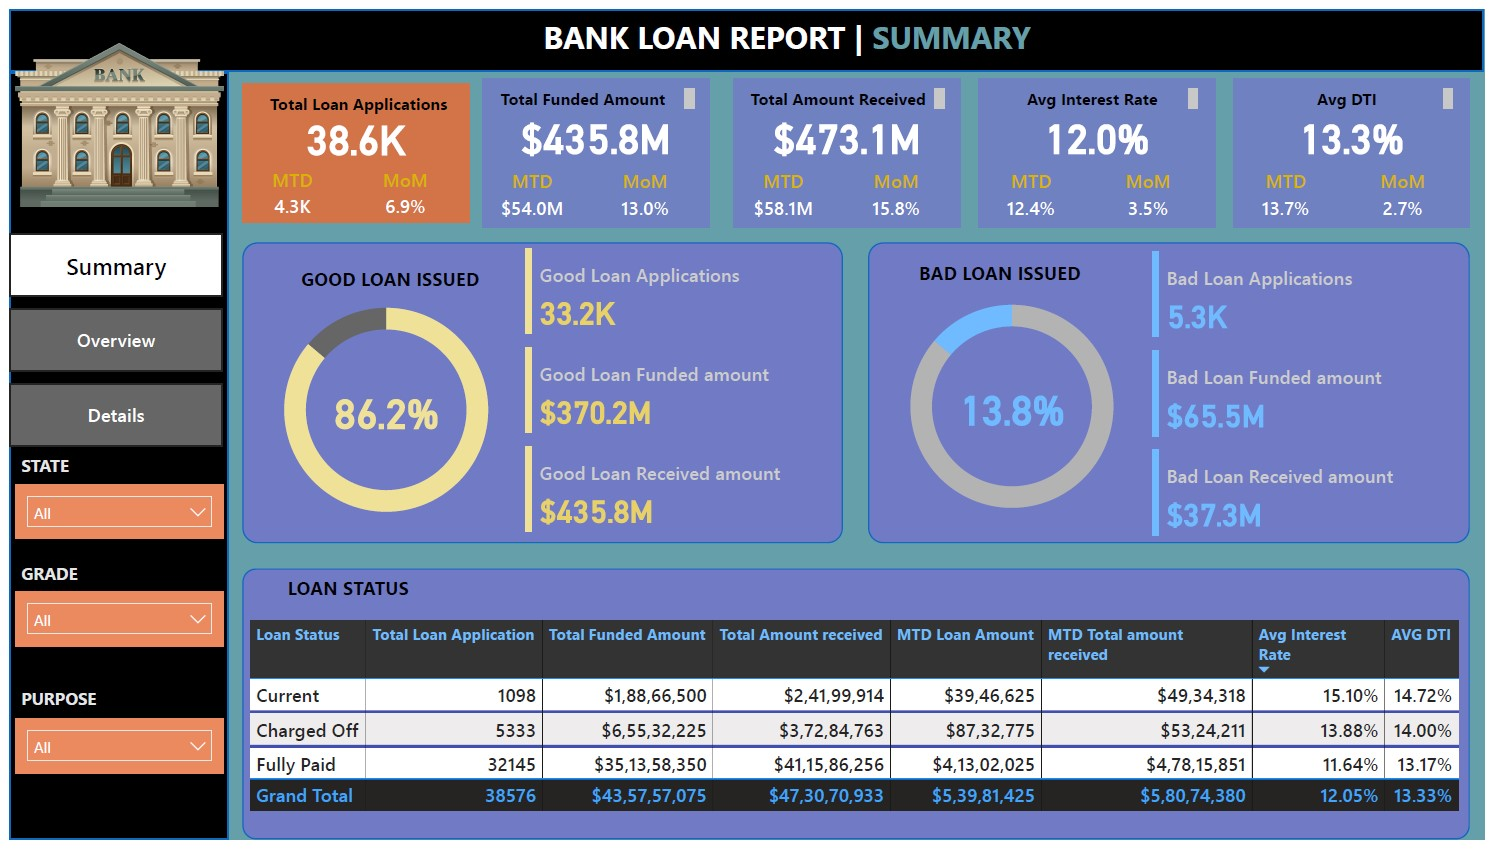

Layout of this report page (visuals, bound fields, positions):
{"tool":"powerbi","page":{"name":"Summary","canvas":[1280,720],"ordinal":0},"visuals":[{"type":"shape","box":[201.9,201.9,521.3,260.7],"z":0},{"type":"shape","box":[0,0,1279.5,54],"z":1000},{"type":"shape","box":[0,54.2,190,665.8],"z":2000},{"type":"textbox","box":[457.7,0,481.6,55.6],"z":3000},{"type":"shape","box":[410.1,60.4,197.1,128.7],"z":3000,"group":"g1"},{"type":"shape","box":[627.8,60.4,197.1,128.7],"z":3000,"group":"g2"},{"type":"shape","box":[840.8,60.4,205,128.7],"z":3000,"group":"g3"},{"type":"shape","box":[1061.7,60.4,205,128.7],"z":3000,"group":"g4"},{"type":"shape","box":[201.9,63.6,197.1,120.8],"z":3000,"group":"g5"},{"type":"card","fields":{"Values":["bank_loan_data.Total Funded Amount"]},"box":[410.1,77.8,197.1,64.4],"z":4000,"group":"g1"},{"type":"card","fields":{"Values":["bank_loan_data.Total Amount received"]},"box":[627.8,77.8,197.1,64.4],"z":4000,"group":"g2"},{"type":"card","fields":{"Values":["bank_loan_data.Avg Interest Rate"]},"box":[840.8,77.8,205,64.4],"z":4000,"group":"g3"},{"type":"card","fields":{"Values":["bank_loan_data.AVG DTI"]},"box":[1061.7,77.8,205,64.4],"z":4000,"group":"g4"},{"type":"card","fields":{"Values":["bank_loan_data.Total Loan Application"]},"box":[201.9,79.9,197.1,60.4],"z":4000,"group":"g5"},{"type":"donutChart","fields":{"Category":["bank_loan_data.Good Vs Bad Loans"],"Y":["bank_loan_data.Total Loan Application"]},"box":[201.9,232.1,249.5,230.5],"z":4000},{"type":"group","id":"g1","title":"Group 1","box":[410.1,60.4,197.1,128.7],"z":4250,"group":"g6"},{"type":"group","id":"g2","title":"Group 1","box":[627.8,60.4,197.1,128.7],"z":4250,"group":"g7"},{"type":"group","id":"g3","title":"Group 1","box":[840.8,60.4,205,128.7],"z":4250,"group":"g8"},{"type":"group","id":"g4","title":"Group 1","box":[1061.7,60.4,205,128.7],"z":4250,"group":"g9"},{"type":"group","id":"g5","title":"Group 1","box":[201.9,63.6,197.1,120.8],"z":5000},{"type":"textbox","box":[421.1,62.9,178,28.6],"z":5001,"group":"g6"},{"type":"textbox","box":[637.3,63.9,178,27.8],"z":5001,"group":"g7"},{"type":"textbox","box":[850.7,63.9,185.2,27.8],"z":5001,"group":"g8"},{"type":"textbox","box":[1071.6,63.9,185.2,27.8],"z":5001,"group":"g9"},{"type":"textbox","box":[220.9,66.8,178,31.8],"z":6000},{"type":"card","title":"MTD","fields":{"Values":["bank_loan_data.MTD Loan Applications"]},"box":[201.9,137.1,87.4,47.3],"z":6000,"group":"g5"},{"type":"card","title":"MTD","fields":{"Values":["bank_loan_data.MTD Loan Amount"]},"box":[410.1,138.7,87.4,50.5],"z":6000,"group":"g1"},{"type":"card","title":"MTD","fields":{"Values":["bank_loan_data.MTD Total amount received"]},"box":[627.8,138.7,87.4,50.5],"z":6000,"group":"g2"},{"type":"card","title":"MTD","fields":{"Values":["bank_loan_data.MTD Avg interest rate"]},"box":[840.8,138.7,90.9,50.5],"z":6000,"group":"g3"},{"type":"card","title":"MTD","fields":{"Values":["bank_loan_data.MTD Avg DTI"]},"box":[1061.7,138.7,90.9,50.5],"z":6000,"group":"g4"},{"type":"card","title":"MoM","fields":{"Values":["bank_loan_data.MOM Loan Application"]},"box":[287.7,137.1,111.3,47.3],"z":7000,"group":"g5"},{"type":"card","title":"MoM","fields":{"Values":["bank_loan_data.MOM Total funded amount"]},"box":[495.9,138.7,111.3,50.5],"z":7000,"group":"g1"},{"type":"card","title":"MoM","fields":{"Values":["bank_loan_data.MOM Total amount received"]},"box":[713.6,138.7,111.3,50.5],"z":7000,"group":"g2"},{"type":"card","title":"MoM","fields":{"Values":["bank_loan_data.MOM Avg Int Rate"]},"box":[930.1,138.7,115.7,50.5],"z":7000,"group":"g3"},{"type":"card","title":"MoM","fields":{"Values":["bank_loan_data.MOM Avg DTI"]},"box":[1151,138.7,115.7,50.5],"z":7000,"group":"g4"},{"type":"card","fields":{"Values":["bank_loan_data.Good Loan %"]},"box":[268.6,316.3,116,63.6],"z":7000},{"type":"textbox","box":[247.9,217.7,173.2,38.1],"z":8000},{"type":"group","id":"g6","title":"Group 2","box":[410.1,60.4,197.1,128.7],"z":9000},{"type":"group","id":"g7","title":"Group 2","box":[627.8,60.4,197.1,128.7],"z":10000},{"type":"group","id":"g8","title":"Group 2","box":[840.8,60.4,205,128.7],"z":11000},{"type":"group","id":"g9","title":"Group 2","box":[1061.7,60.4,205,128.7],"z":12000},{"type":"shape","box":[745.4,201.9,521.3,260.7],"z":13000},{"type":"cardVisual","fields":{"Data":["bank_loan_data.Good Loan Applications","bank_loan_data.Good Loan Funded amount","bank_loan_data.Good Loan Received amount"]},"box":[443.4,201.9,279.7,257.5],"z":14000},{"type":"donutChart","fields":{"Category":["bank_loan_data.Good Vs Bad Loans"],"Y":["bank_loan_data.Total Loan Application"]},"box":[745.4,228.9,249.5,230.5],"z":15000},{"type":"card","fields":{"Values":["bank_loan_data.Bad Loan %"]},"box":[812.2,313.1,116,63.6],"z":16000},{"type":"textbox","box":[783.6,213,173.2,38.1],"z":17000},{"type":"shape","box":[201.9,484.8,1064.9,235.2],"z":18000},{"type":"cardVisual","fields":{"Data":["bank_loan_data.Bad Loan Applications","bank_loan_data.Bad Loan Funded amount","bank_loan_data.Bad Loan Received amount"]},"box":[987,205,279.7,257.5],"z":19000},{"type":"tableEx","fields":{"Values":["bank_loan_data.loan_status","bank_loan_data.Total Loan Application","bank_loan_data.Total Funded Amount","bank_loan_data.Total Amount received","bank_loan_data.MTD Loan Amount","bank_loan_data.MTD Total amount received","bank_loan_data.Avg Interest Rate","bank_loan_data.AVG DTI"]},"box":[203.4,524.5,1061.7,179.6],"z":20000},{"type":"textbox","box":[203.4,486.4,181.2,38.1],"z":21000},{"type":"slicer","fields":{"Values":["bank_loan_data.address_state"]},"box":[4.8,411.7,181.2,47.7],"z":22000},{"type":"textbox","box":[4.8,379.9,76.3,31.8],"z":23000},{"type":"slicer","fields":{"Values":["bank_loan_data.grade"]},"box":[4.8,505.4,181.2,47.7],"z":24000},{"type":"textbox","box":[4.8,473.6,76.3,31.8],"z":25000},{"type":"textbox","box":[4.8,581.7,76.3,33.4],"z":26000},{"type":"slicer","fields":{"Values":["bank_loan_data.purpose"]},"box":[4.8,615.1,181.2,47.7],"z":27000},{"type":"image","box":[0,0,190.7,200.3],"z":27001},{"type":"pageNavigator","box":[0,193.9,186,186],"z":27002}]}

Visuals, with their boxes in screenshot pixels (x1, y1, x2, y2), scaled from the page's 1280x720 canvas onto the 1492x849 screenshot:
shape: select_region(235, 238, 843, 545)
shape: select_region(0, 0, 1491, 64)
shape: select_region(0, 64, 221, 848)
textbox: select_region(534, 0, 1095, 66)
shape: select_region(478, 71, 708, 223)
shape: select_region(732, 71, 962, 223)
shape: select_region(980, 71, 1219, 223)
shape: select_region(1238, 71, 1476, 223)
shape: select_region(235, 75, 465, 217)
card - bank_loan_data.Total Funded Amount: select_region(478, 92, 708, 168)
card - bank_loan_data.Total Amount received: select_region(732, 92, 962, 168)
card - bank_loan_data.Avg Interest Rate: select_region(980, 92, 1219, 168)
card - bank_loan_data.AVG DTI: select_region(1238, 92, 1476, 168)
card - bank_loan_data.Total Loan Application: select_region(235, 94, 465, 165)
donutChart - bank_loan_data.Good Vs Bad Loans x bank_loan_data.Total Loan Application: select_region(235, 274, 526, 545)
"Group 1" group: select_region(478, 71, 708, 223)
"Group 1" group: select_region(732, 71, 962, 223)
"Group 1" group: select_region(980, 71, 1219, 223)
"Group 1" group: select_region(1238, 71, 1476, 223)
"Group 1" group: select_region(235, 75, 465, 217)
textbox: select_region(491, 74, 698, 108)
textbox: select_region(743, 75, 950, 108)
textbox: select_region(992, 75, 1207, 108)
textbox: select_region(1249, 75, 1465, 108)
textbox: select_region(257, 79, 465, 116)
"MTD" card: select_region(235, 162, 337, 217)
"MTD" card: select_region(478, 164, 580, 223)
"MTD" card: select_region(732, 164, 834, 223)
"MTD" card: select_region(980, 164, 1086, 223)
"MTD" card: select_region(1238, 164, 1343, 223)
"MoM" card: select_region(335, 162, 465, 217)
"MoM" card: select_region(578, 164, 708, 223)
"MoM" card: select_region(832, 164, 962, 223)
"MoM" card: select_region(1084, 164, 1219, 223)
"MoM" card: select_region(1342, 164, 1476, 223)
card - bank_loan_data.Good Loan %: select_region(313, 373, 448, 448)
textbox: select_region(289, 257, 491, 302)
"Group 2" group: select_region(478, 71, 708, 223)
"Group 2" group: select_region(732, 71, 962, 223)
"Group 2" group: select_region(980, 71, 1219, 223)
"Group 2" group: select_region(1238, 71, 1476, 223)
shape: select_region(869, 238, 1476, 545)
cardVisual - bank_loan_data.Good Loan Applications x bank_loan_data.Good Loan Funded amount: select_region(517, 238, 843, 542)
donutChart - bank_loan_data.Good Vs Bad Loans x bank_loan_data.Total Loan Application: select_region(869, 270, 1160, 542)
card - bank_loan_data.Bad Loan %: select_region(947, 369, 1082, 444)
textbox: select_region(913, 251, 1115, 296)
shape: select_region(235, 572, 1477, 848)
cardVisual - bank_loan_data.Bad Loan Applications x bank_loan_data.Bad Loan Funded amount: select_region(1150, 242, 1476, 545)
tableEx - bank_loan_data.loan_status x bank_loan_data.Total Loan Application: select_region(237, 618, 1475, 830)
textbox: select_region(237, 574, 448, 618)
slicer - bank_loan_data.address_state: select_region(6, 485, 217, 542)
textbox: select_region(6, 448, 95, 485)
slicer - bank_loan_data.grade: select_region(6, 596, 217, 652)
textbox: select_region(6, 558, 95, 596)
textbox: select_region(6, 686, 95, 725)
slicer - bank_loan_data.purpose: select_region(6, 725, 217, 782)
image: select_region(0, 0, 222, 236)
pageNavigator: select_region(0, 229, 217, 448)
